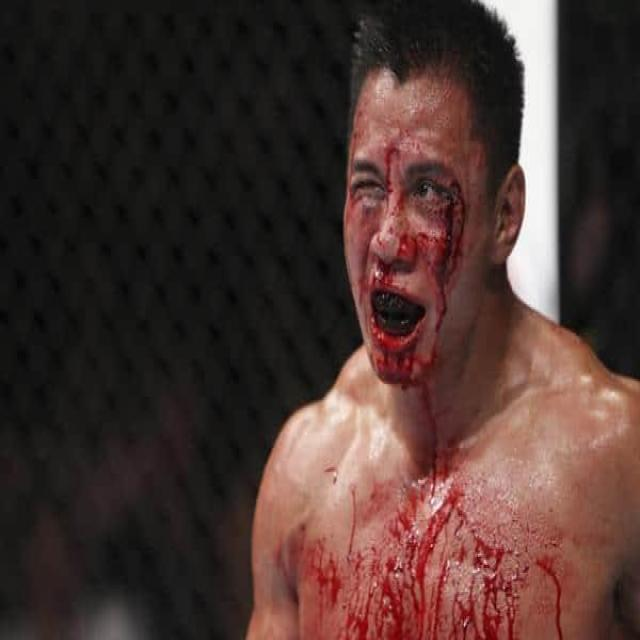flood: (276, 467, 585, 640), (338, 62, 492, 396)
